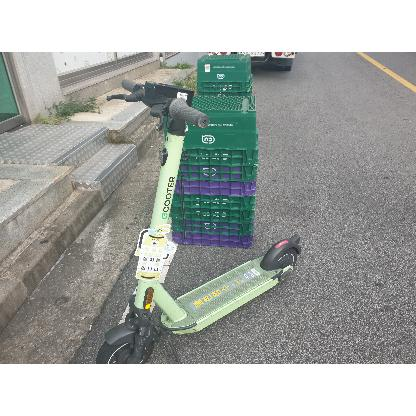bike: (95, 78, 300, 364)
car: (206, 51, 297, 72)
